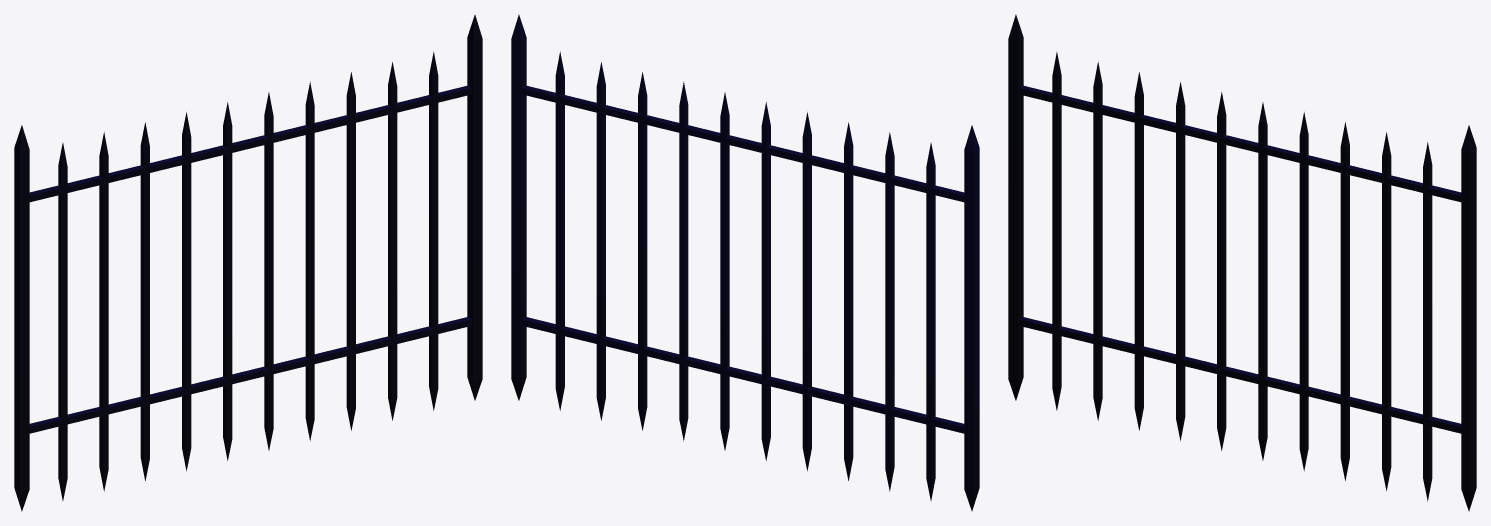
The model's file is IronFence.glb.
The picture shows the model from 3 angles, left to right: view 1: azimuth 30°, elevation 25°; view 2: azimuth 150°, elevation 25°; view 3: azimuth 330°, elevation 25°; orthographic projection.
Visible parts, largest first — view 1: IronFence; view 2: IronFence; view 3: IronFence.
Boxes of the visible parts, x1,y1,x2,y2 form: IronFence: (14, 14, 482, 511); IronFence: (511, 14, 979, 511); IronFence: (1008, 14, 1476, 511).
Bounding box in the file's own units: 19.66 × 15.72 × 0.4183.
